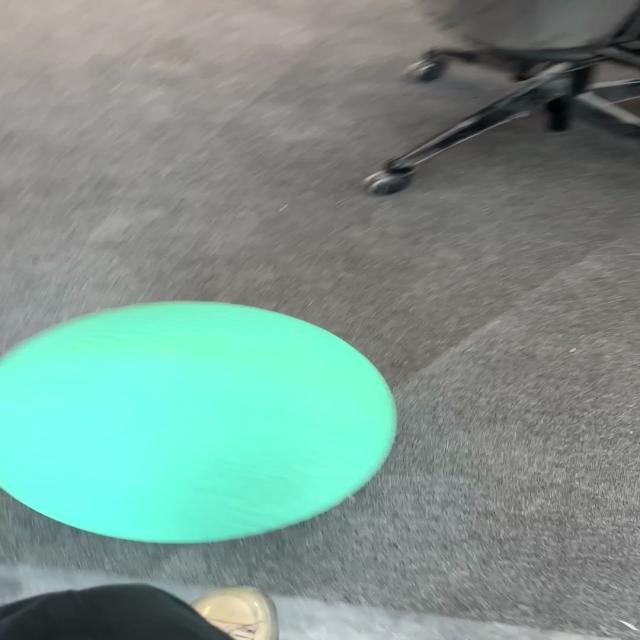Algae: (1, 300, 398, 544)
